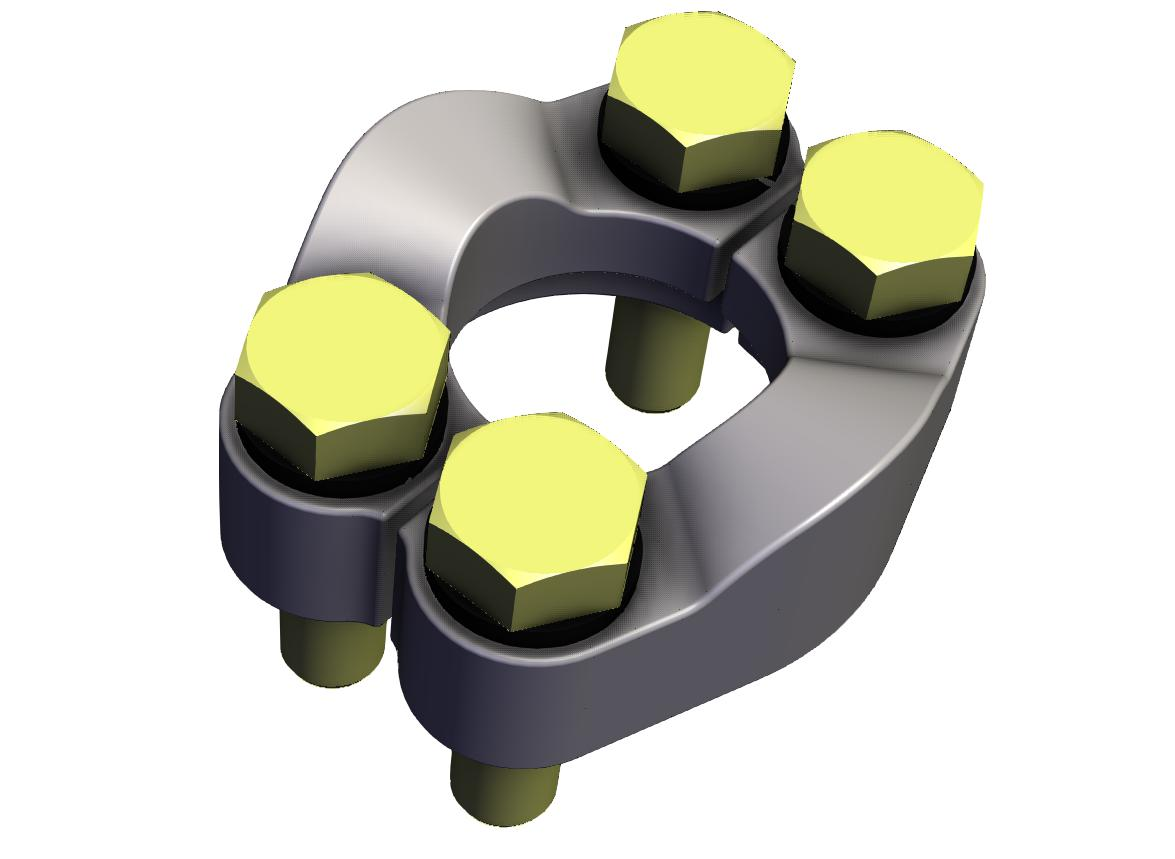bolt_a: (423, 410, 649, 633), (230, 268, 451, 483), (782, 126, 985, 322), (599, 7, 798, 195)
